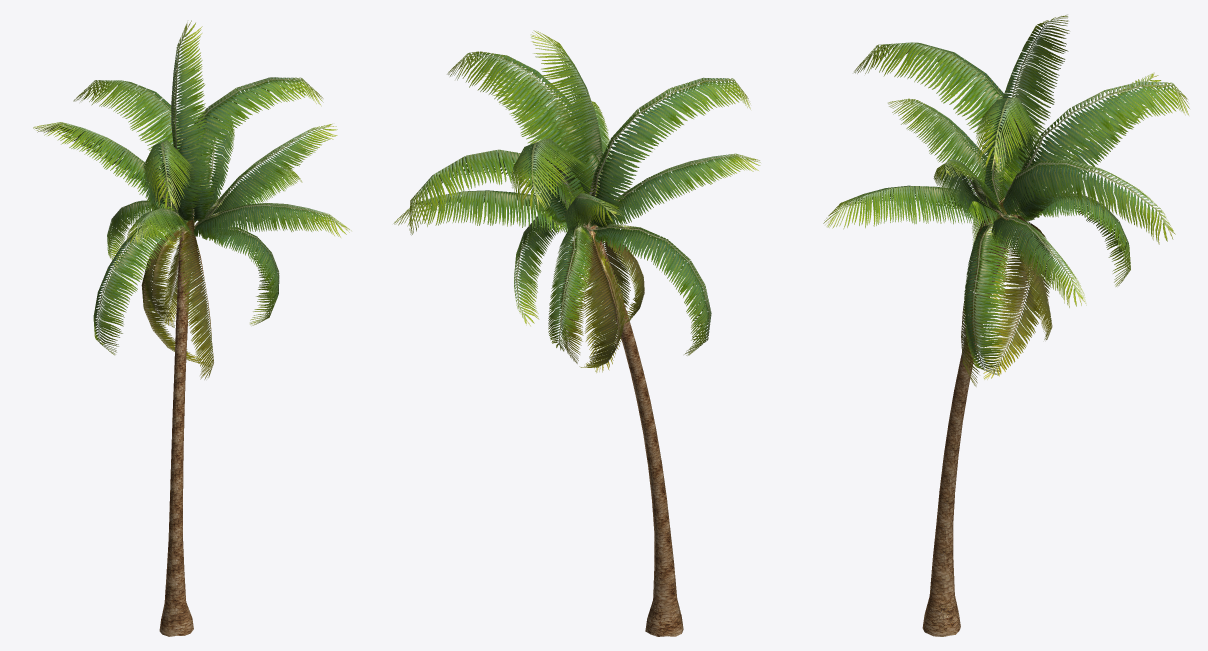
File: palm_001.obj
3 views of the same model, side by side, from view 1: azimuth 30°, elevation 25°; view 2: azimuth 150°, elevation 25°; view 3: azimuth 270°, elevation 25° (orthographic). The views are drawn at different scales.
Visible parts, largest first — view 1: palm_001.obj; view 2: palm_001.obj; view 3: palm_001.obj.
Boxes of the visible parts, bbox=[...] form: palm_001.obj: bbox=[33, 20, 351, 636]; palm_001.obj: bbox=[393, 30, 760, 636]; palm_001.obj: bbox=[823, 14, 1189, 636].
Size of the model in its own units: 229 by 449 by 243.
2 materials, 2 textured.
